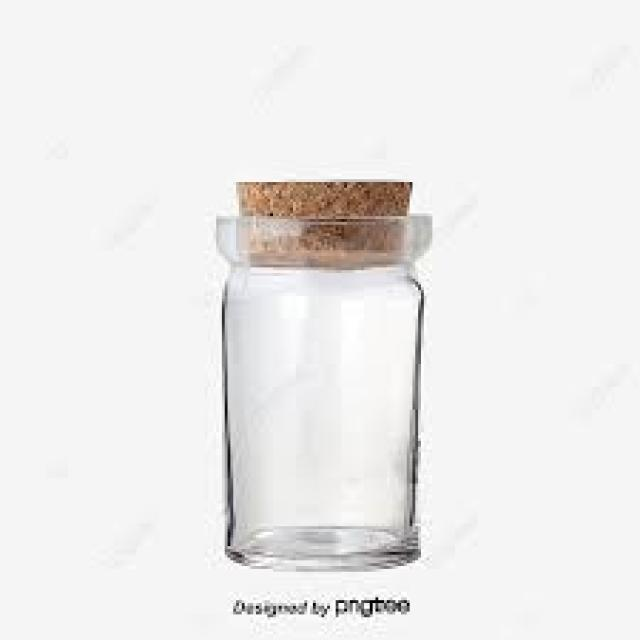glass: (211, 214, 430, 575)
